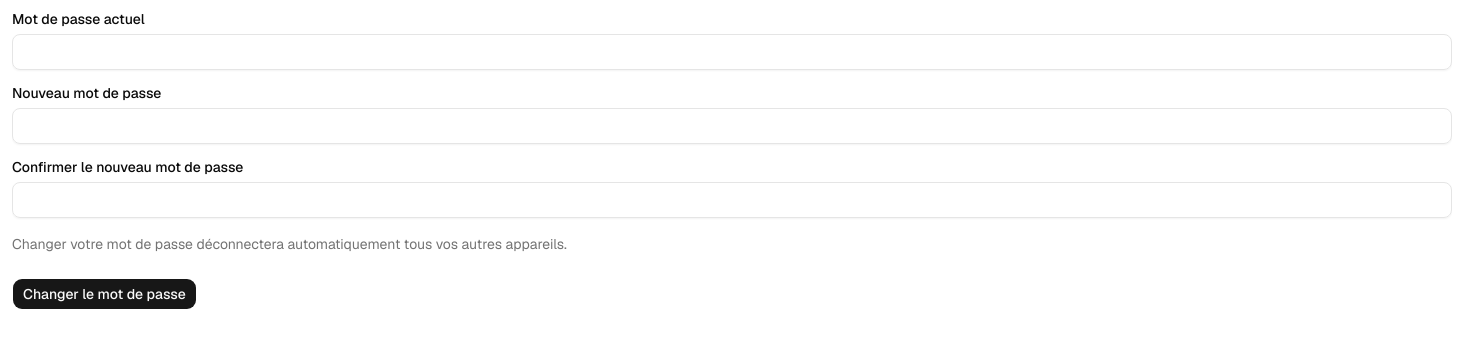
Scenario: ChangePasswordForm › affiche une erreur de validation quand la confirmation ne correspond pas
In the password field labelled "Mot de passe actuel": (732, 52) x1=12 y1=34 x2=1452 y2=70, type "ancien-mot-de-passe"
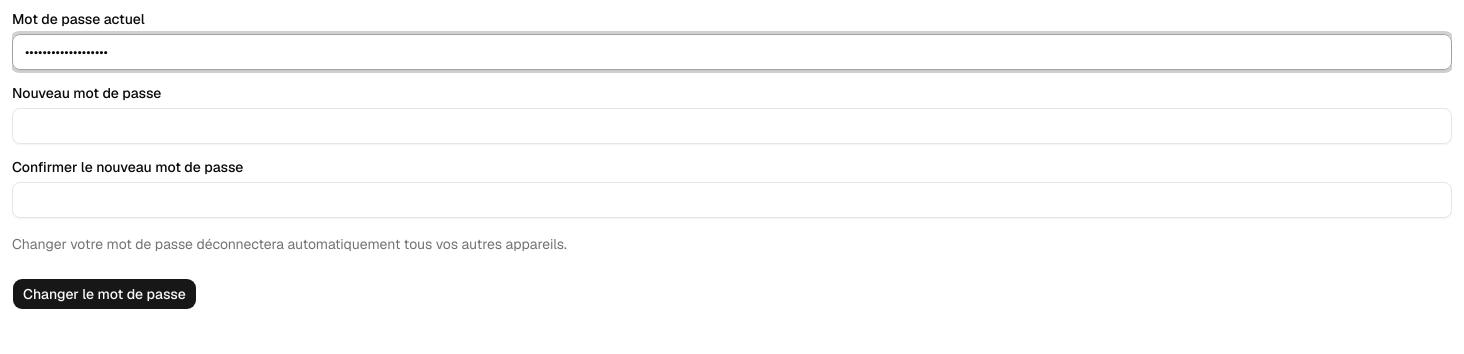
In the password field labelled "Nouveau mot de passe": (732, 126) x1=12 y1=108 x2=1452 y2=144, type "nouveau-mot-de-passe"
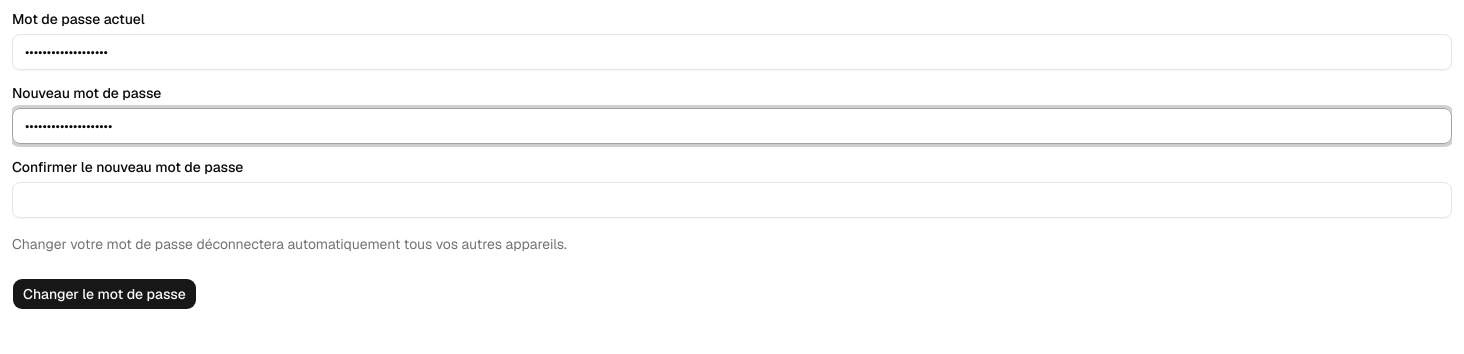
In the password field labelled "Confirmer le nouveau mot de passe": (732, 200) x1=12 y1=182 x2=1452 y2=218, type "autre-chose"
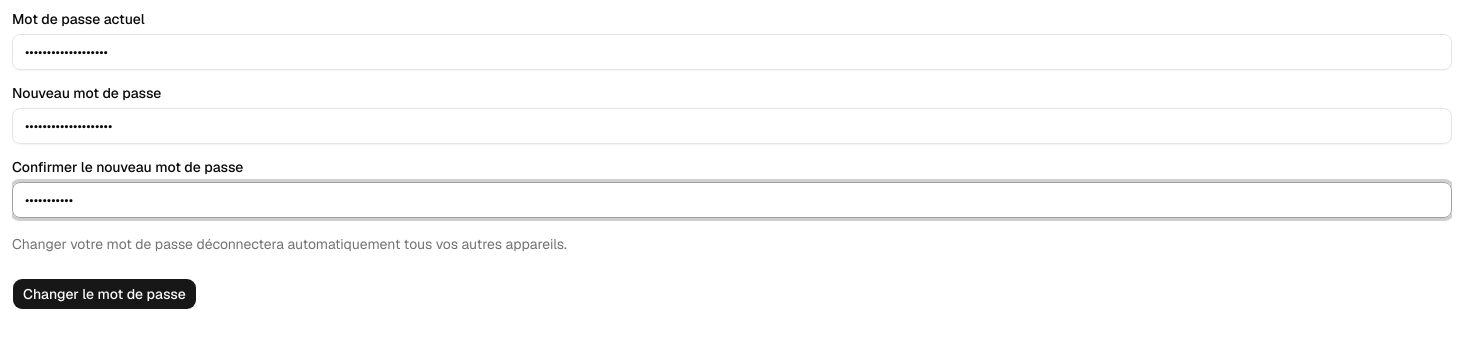
Submit the form from the button "Changer le mot de passe", box x1=12 y1=278 x2=197 y2=310
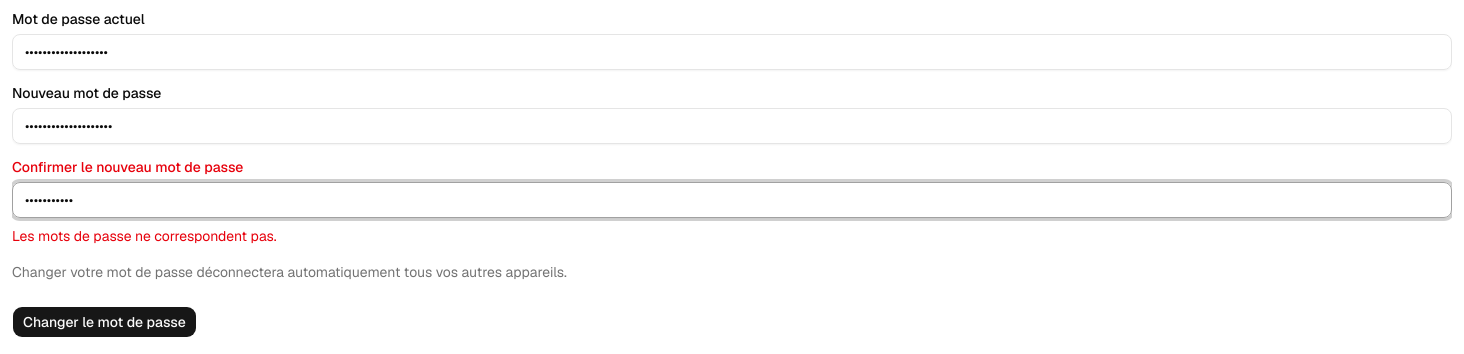
Expected: the text "Les mots de passe ne correspondent pas." is shown, x1=12 y1=227 x2=277 y2=245
